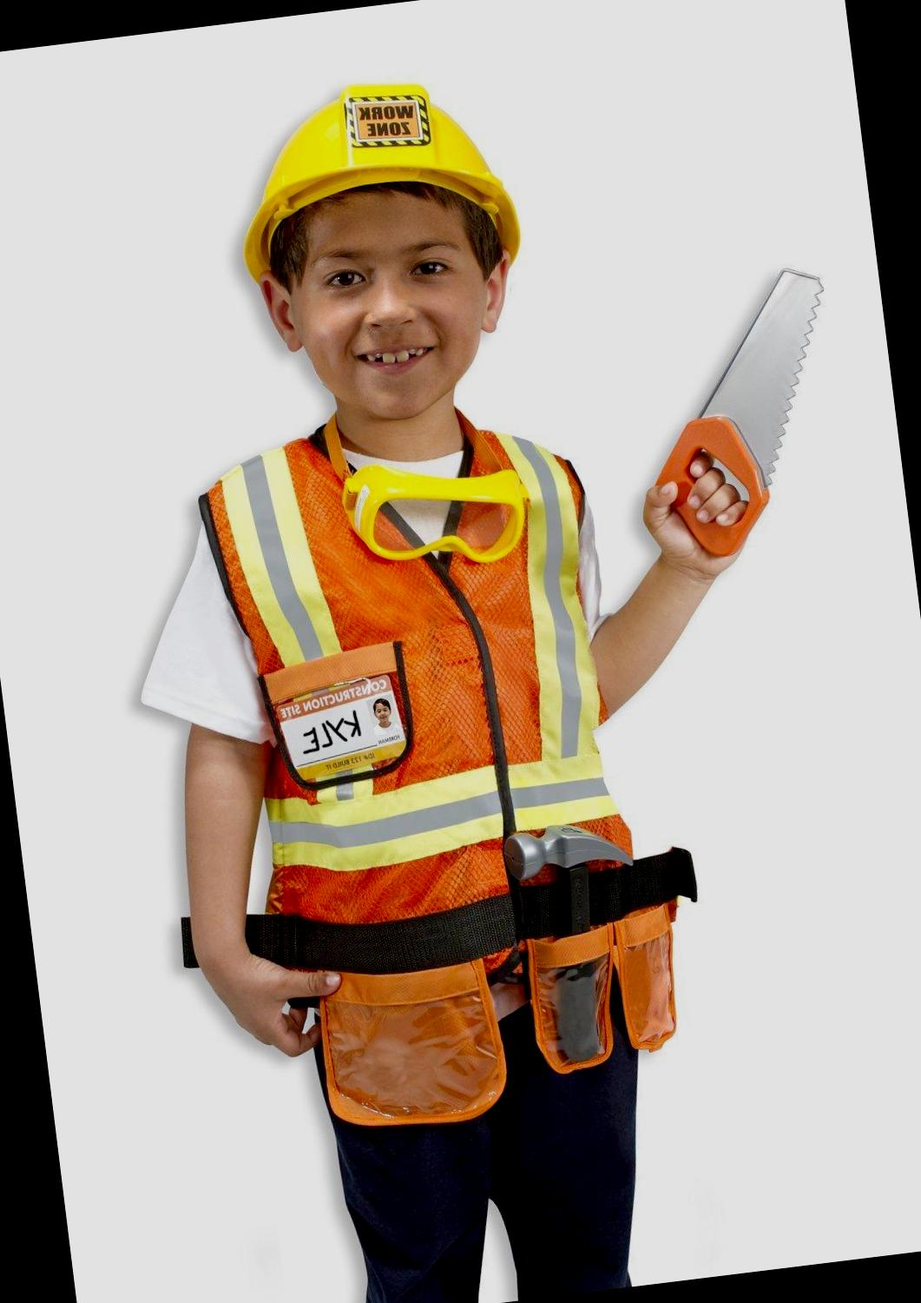helmet: (211, 61, 537, 317)
person: (72, 38, 713, 1303)
